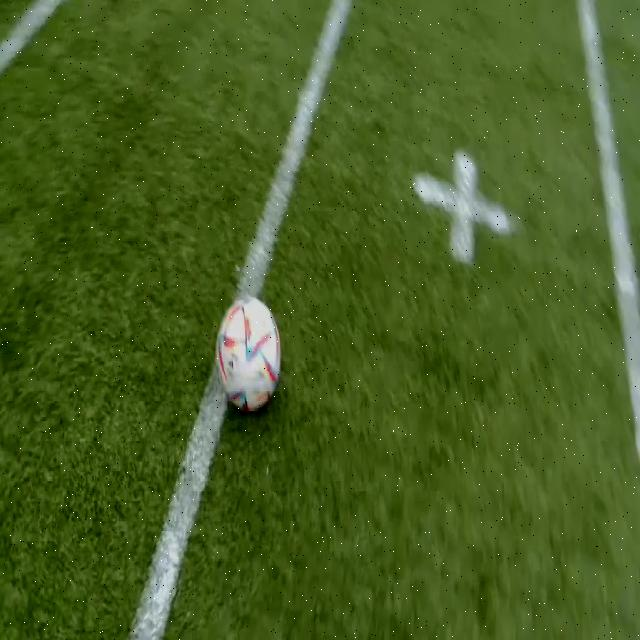ball: (216, 294, 282, 414)
